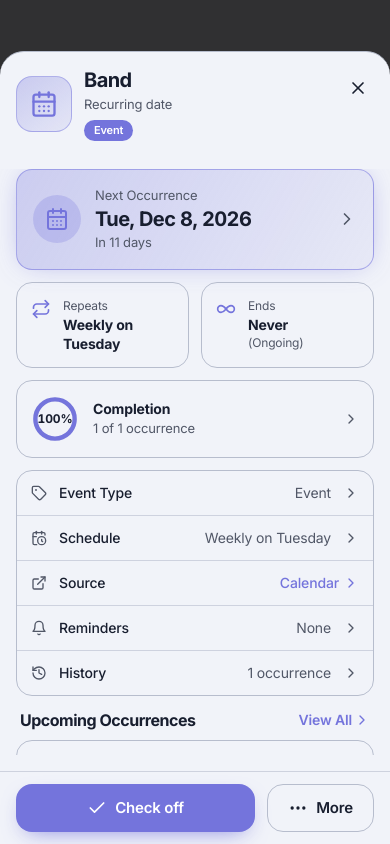
End series is offered only where it can be stored (O4) › once the first date is checked off, it ends the series the day before the next date
The width and height of the screenshot is (390, 844).
Click the button with test id "cal-action-more" at (321, 808), box [267,784,374,832]
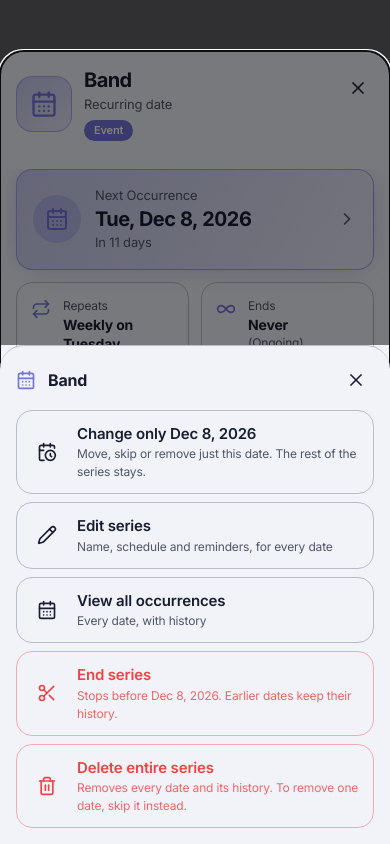
Expected: the button with test id "cal-action-deleteFuture" shows "Dec 8", [16,651,374,736]
